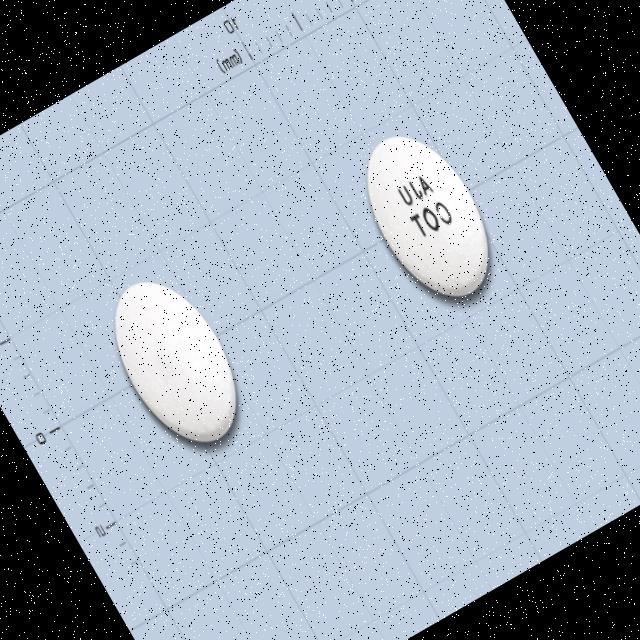Croxacin: (88, 258, 264, 464), (341, 115, 514, 318)
